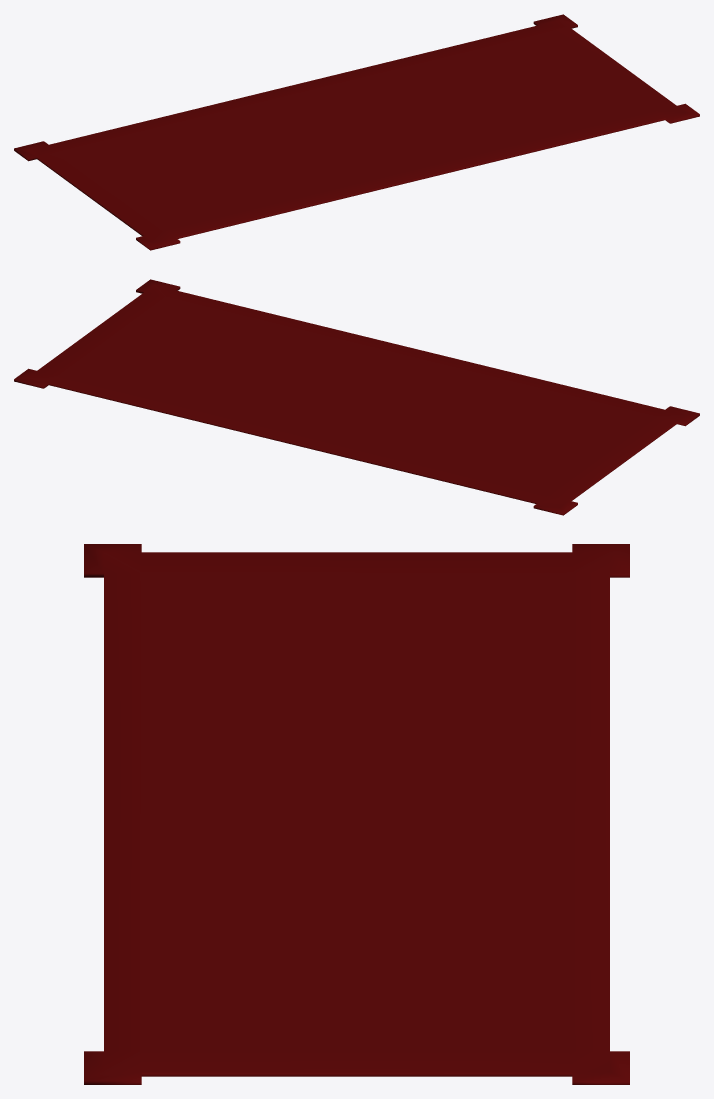
Rendered from carpet.fbx.
3 views of the same model, one above another, from view 1: azimuth 30°, elevation 25°; view 2: azimuth 150°, elevation 25°; view 3: azimuth 270°, elevation 25° (orthographic). The views are drawn at different scales.
Parts seen in each view (by area): view 1: pCube186; view 2: pCube186; view 3: pCube186.
Boxes of the visible parts, x1,y1,x2,y2 form: pCube186: (14, 14, 699, 250); pCube186: (14, 279, 699, 515); pCube186: (84, 544, 629, 1084).
Size of the model in its own units: 805 by 3.16 by 347.
